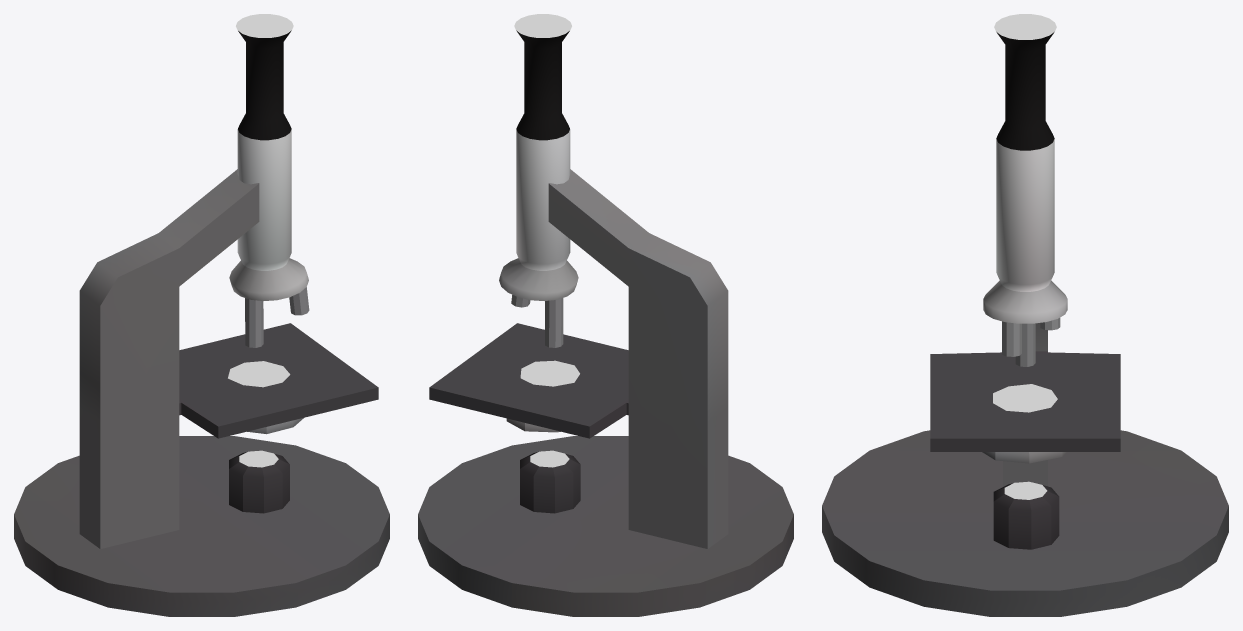
Rendered from microscope.fbx.
3 views of the same model, side by side, from view 1: azimuth 30°, elevation 25°; view 2: azimuth 150°, elevation 25°; view 3: azimuth 270°, elevation 25° (orthographic). The views are drawn at different scales.
Visible parts, largest first — view 1: microscope; view 2: microscope; view 3: microscope.
Part boxes in pixels (x1,y1,x2,y2): microscope: (14,14,389,616); microscope: (418,14,793,616); microscope: (822,14,1228,616).
Bounding box in the file's own units: 2364 × 3503 × 2400.
